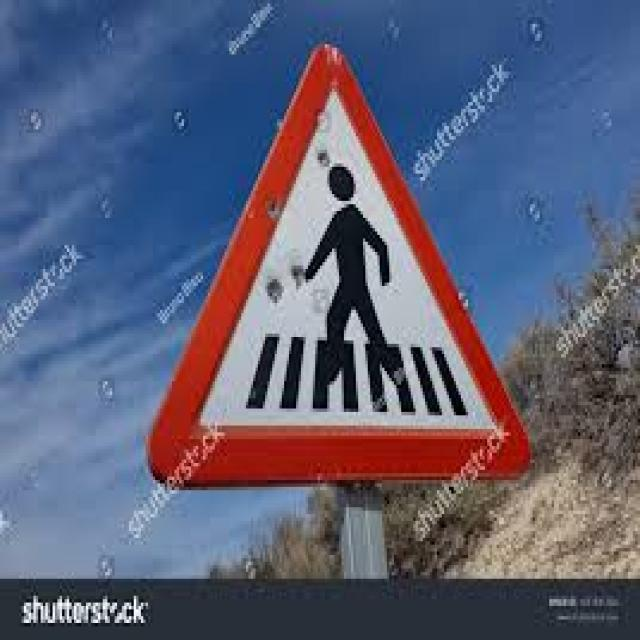Attention-Passage-Pieton: (153, 41, 530, 491)
